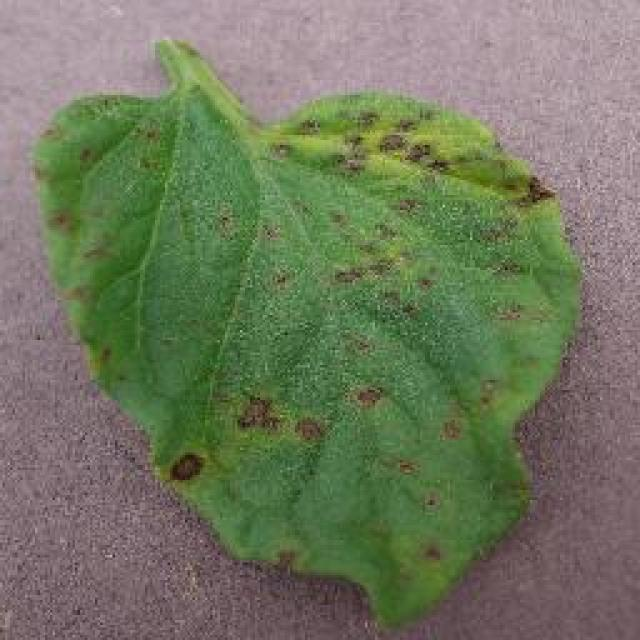Tomato___Septoria_leaf_spot: (35, 40, 578, 622)
